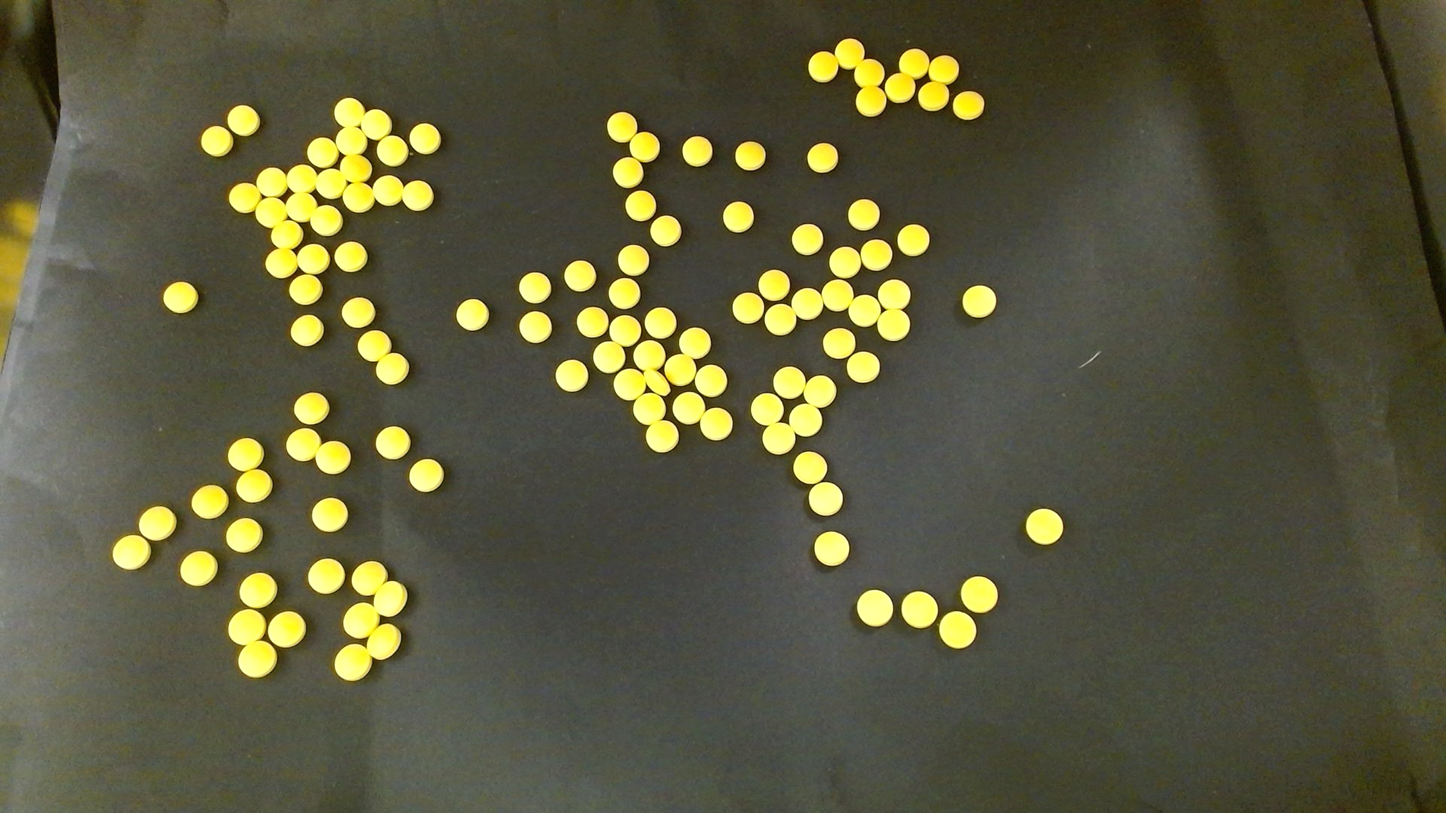Circle: (854, 588, 893, 627), (1023, 507, 1063, 545), (310, 496, 349, 534), (111, 534, 151, 571), (237, 641, 276, 678), (960, 576, 997, 613), (334, 644, 371, 681), (179, 550, 217, 586), (308, 558, 345, 594), (813, 530, 850, 566), (224, 517, 261, 553), (269, 611, 306, 647), (901, 591, 937, 628), (939, 612, 976, 648), (407, 458, 444, 493), (239, 572, 276, 607), (191, 484, 228, 519), (138, 505, 175, 540), (229, 609, 266, 644), (161, 281, 200, 314), (343, 602, 378, 638), (372, 580, 407, 616), (236, 469, 272, 503), (351, 561, 387, 595), (961, 284, 996, 318), (809, 481, 843, 516), (367, 623, 401, 658), (293, 391, 329, 424), (227, 437, 263, 470), (316, 440, 350, 474), (554, 359, 588, 393), (375, 425, 410, 458), (285, 428, 320, 461), (878, 308, 911, 341), (290, 314, 323, 346), (376, 353, 409, 385), (794, 451, 827, 483), (334, 240, 367, 272), (761, 422, 794, 454), (897, 223, 929, 256), (700, 408, 733, 440), (408, 122, 441, 154), (789, 403, 822, 435), (695, 364, 728, 396), (456, 299, 490, 330), (518, 312, 552, 343), (227, 104, 259, 136), (310, 204, 342, 236), (593, 340, 625, 372), (822, 327, 855, 358), (733, 291, 764, 324), (295, 242, 328, 273), (734, 140, 766, 171), (519, 272, 551, 303), (847, 199, 879, 230), (358, 330, 390, 361), (563, 260, 595, 291), (847, 352, 879, 383), (606, 111, 638, 142), (645, 421, 677, 452), (792, 223, 823, 255), (860, 239, 892, 270), (772, 366, 804, 397), (633, 392, 665, 423), (372, 175, 404, 206), (673, 392, 704, 424), (821, 279, 852, 311), (229, 181, 261, 212), (255, 196, 287, 227), (633, 339, 665, 370), (285, 190, 316, 222), (951, 90, 984, 120), (341, 297, 374, 327), (289, 274, 322, 304), (200, 126, 231, 157), (758, 269, 789, 300), (401, 180, 432, 211), (625, 190, 656, 221), (617, 244, 648, 275), (377, 135, 408, 166), (828, 246, 859, 277), (764, 303, 795, 334), (804, 375, 835, 406), (645, 307, 676, 338), (679, 327, 710, 358), (315, 167, 346, 198), (609, 314, 640, 345), (265, 248, 297, 278), (878, 279, 910, 309), (576, 306, 608, 336), (255, 166, 287, 196), (270, 219, 303, 248), (723, 201, 753, 232), (612, 157, 643, 187), (898, 48, 929, 78), (751, 393, 781, 424), (342, 182, 373, 212), (849, 295, 879, 326), (609, 277, 639, 308), (334, 96, 365, 126), (664, 355, 695, 385), (614, 369, 645, 399), (793, 287, 823, 318), (336, 126, 368, 155), (855, 85, 885, 115), (682, 136, 712, 166), (807, 142, 837, 172), (808, 51, 838, 81), (918, 80, 948, 110), (651, 215, 681, 245), (884, 72, 914, 102), (834, 38, 864, 68), (307, 137, 337, 167), (360, 109, 390, 139), (340, 153, 371, 182), (928, 54, 958, 83), (286, 164, 316, 193), (854, 58, 883, 87), (642, 368, 670, 396), (630, 132, 657, 160)
